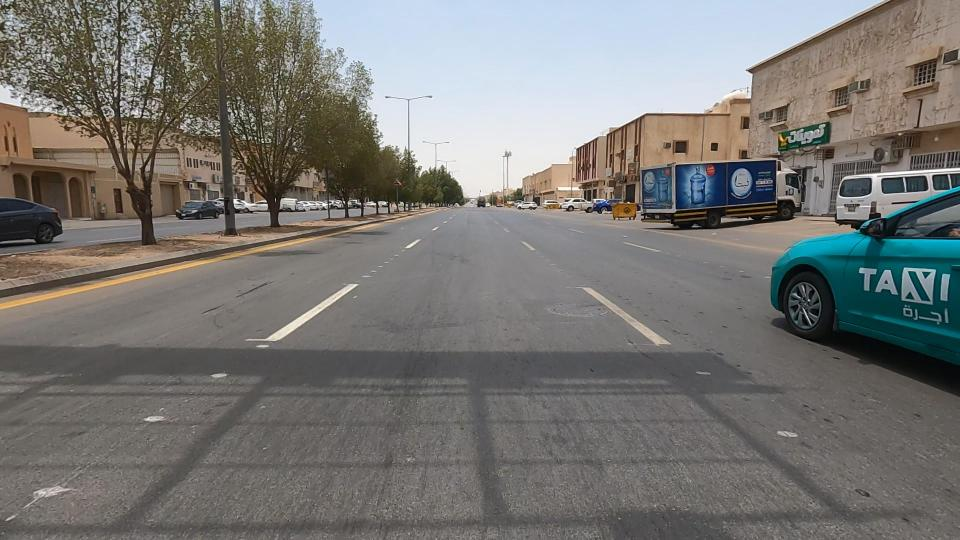UNKEPT_FACADE: (674, 0, 960, 198)
